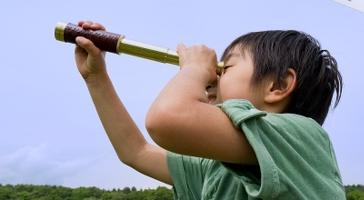person: (75, 21, 348, 200)
